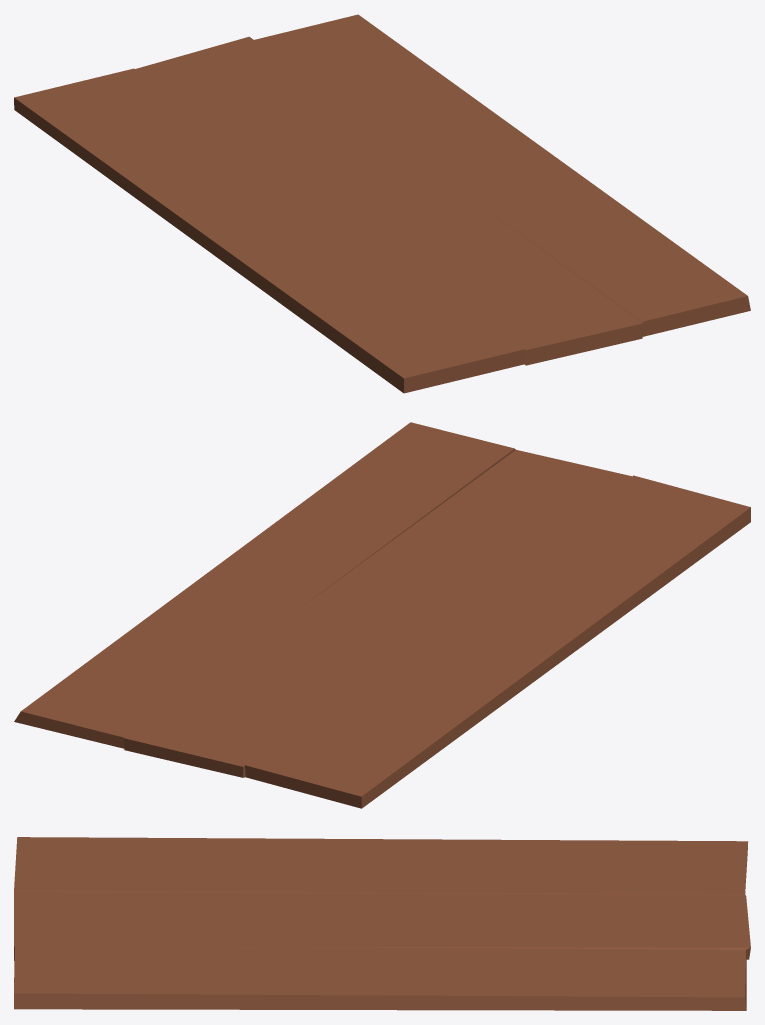
Rendered from 230328V2HangingTableSeher.fbx.
3 views of the same model, one above another, from view 1: azimuth 30°, elevation 25°; view 2: azimuth 150°, elevation 25°; view 3: azimuth 270°, elevation 25° (orthographic). The views are drawn at different scales.
Visible parts, largest first — view 1: Table; view 2: Table; view 3: Table.
Part boxes in pixels (bbox=[...]): Table: bbox=[14, 14, 750, 393]; Table: bbox=[14, 422, 750, 808]; Table: bbox=[14, 837, 750, 1010].
Size of the model in its own units: 78.84 by 3.9 by 154.
